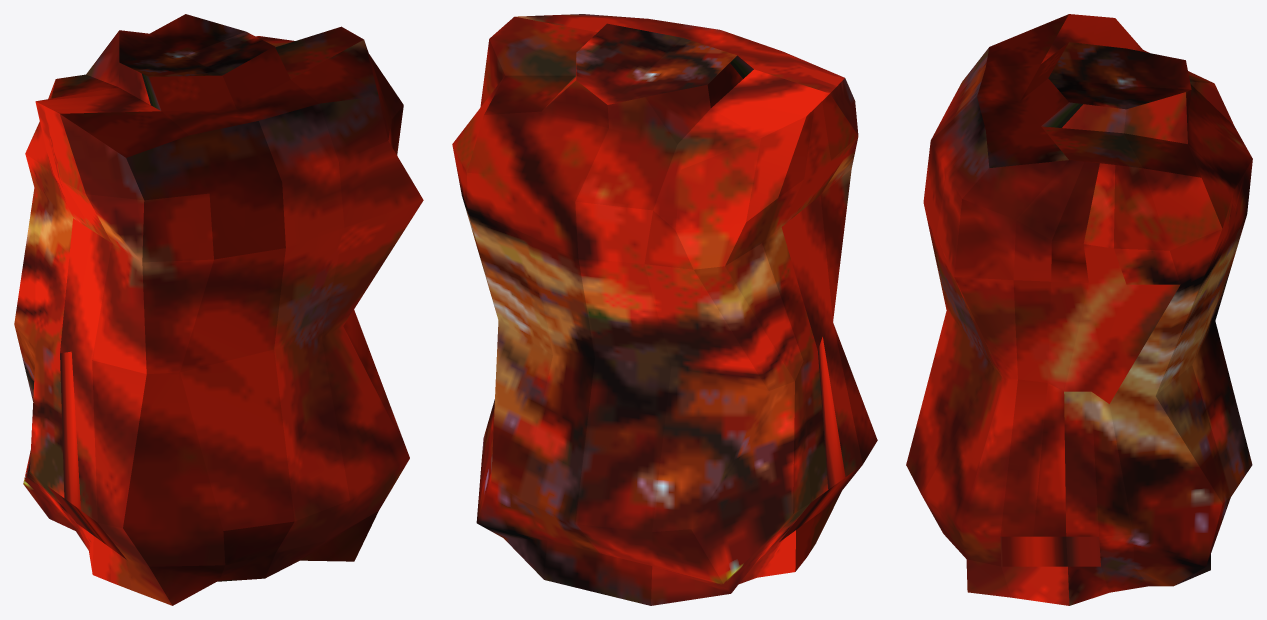
The model's file is Chest_Gib.glb.
3 renders of one model, left to right at view 1: azimuth 30°, elevation 25°; view 2: azimuth 150°, elevation 25°; view 3: azimuth 270°, elevation 25°, orthographic. The views are drawn at different scales.
Visible parts, largest first — view 1: Torso_Gib; view 2: Torso_Gib; view 3: Torso_Gib.
Boxes of the visible parts, x1=… form: Torso_Gib: x1=14, y1=14, x2=423, y2=605; Torso_Gib: x1=452, y1=14, x2=877, y2=605; Torso_Gib: x1=906, y1=14, x2=1252, y2=605.
Size of the model in its own units: 0.3554 by 0.4894 by 0.3228.
Materials: 1 (1 with a texture image).
